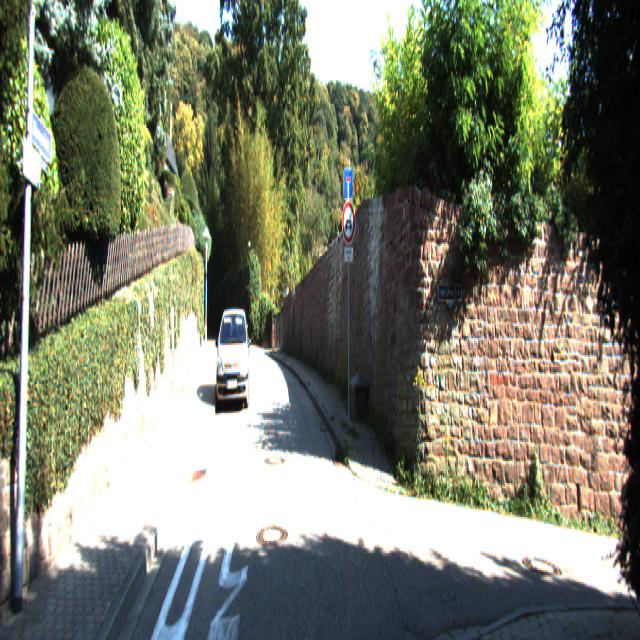Car: (215, 301, 250, 412), (227, 308, 249, 363)
